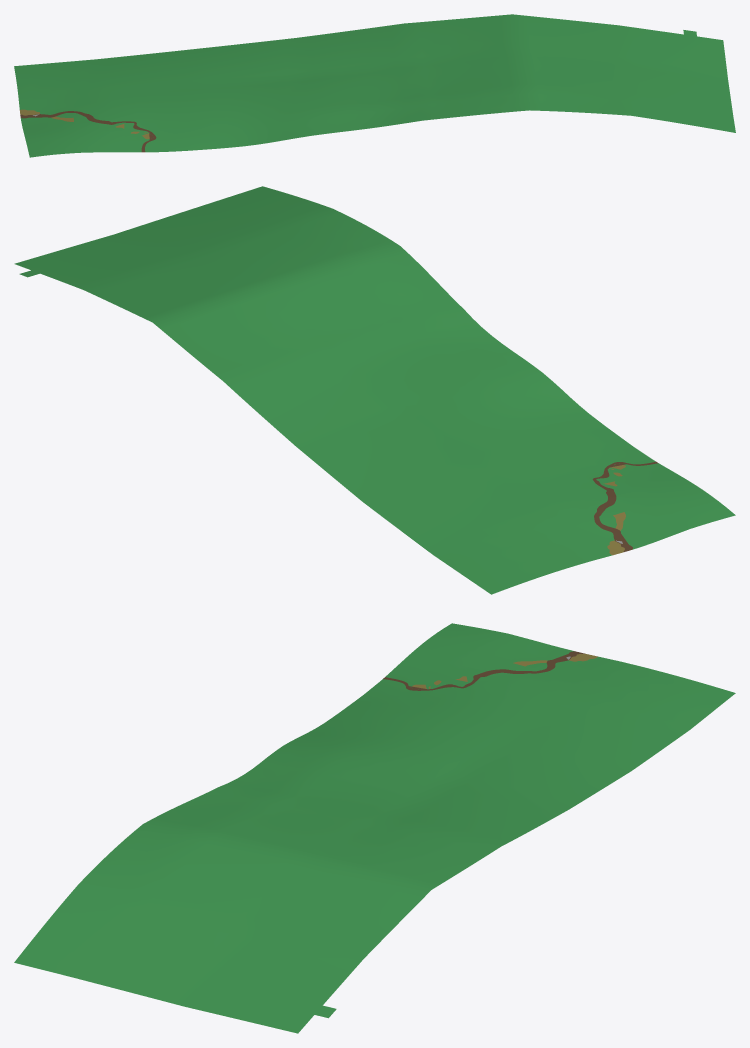
File: Placeholder_module06_winding_path.fbx
3 renders of one model, top to bottom at view 1: azimuth 30°, elevation 25°; view 2: azimuth 150°, elevation 25°; view 3: azimuth 270°, elevation 25°, orthographic. The views are drawn at different scales.
Visible parts, largest first — view 1: Module6_windding path; view 2: Module6_windding path; view 3: Module6_windding path.
Part boxes in pixels (left/top/right/bottom): Module6_windding path: left=14, top=14, right=735, bottom=157; Module6_windding path: left=14, top=186, right=735, bottom=594; Module6_windding path: left=14, top=623, right=735, bottom=1033.
Bounding box in the file's own units: 30.48 × 2.18 × 22.35.
